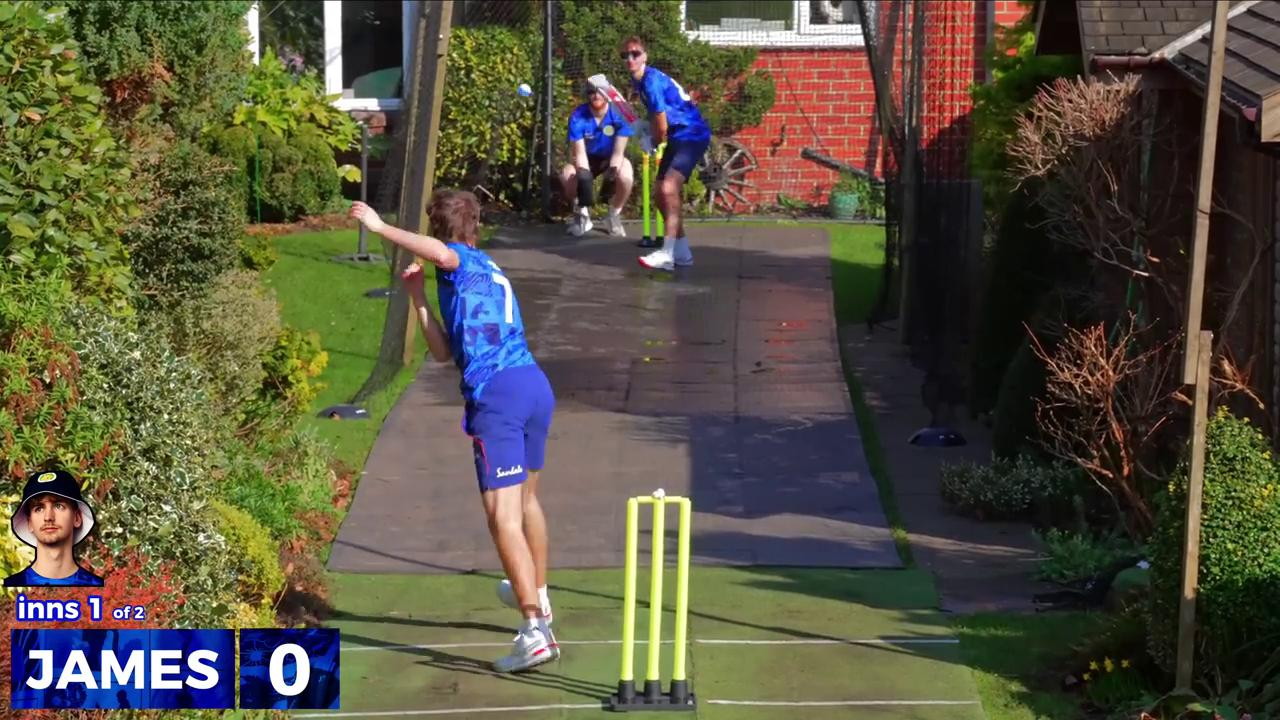ball: (513, 80, 535, 100)
